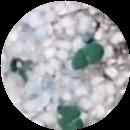Basil: (69, 43, 105, 76), (55, 107, 85, 130)
